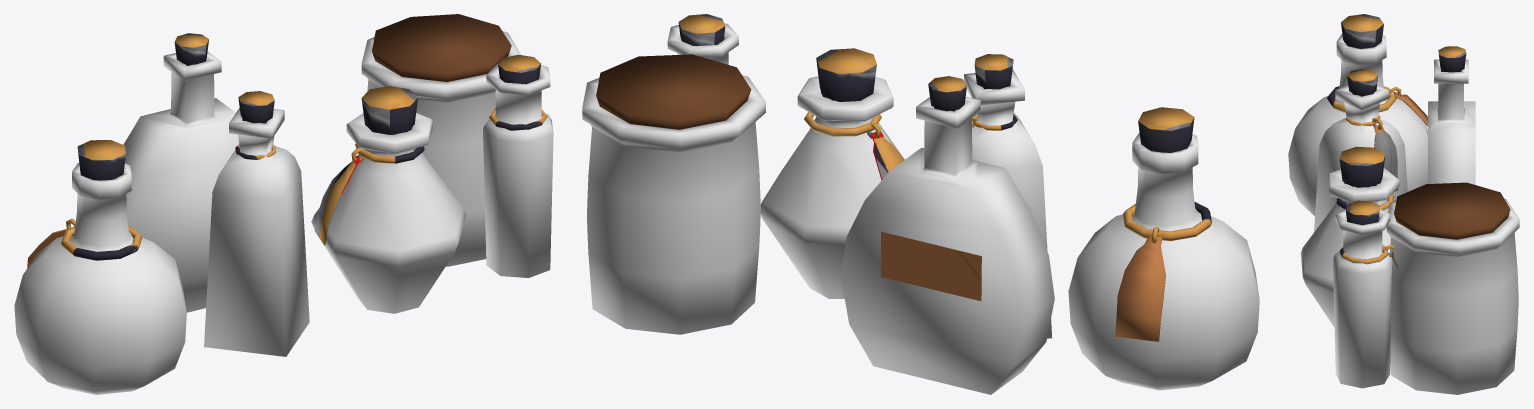
File: combination3LP.fbx
3 renders of one model, left to right at view 1: azimuth 30°, elevation 25°; view 2: azimuth 150°, elevation 25°; view 3: azimuth 270°, elevation 25°, orthographic. The views are drawn at different scales.
Visible parts, largest first — view 1: glassC3, potionC3; view 2: glassC3, potionC3; view 3: glassC3, potionC3.
Boxes of the visible parts, x1,y1,x2,y2 form: glassC3: [14, 31, 553, 394]; potionC3: [27, 14, 547, 267]; glassC3: [582, 23, 1259, 394]; potionC3: [596, 14, 1211, 341]; glassC3: [1288, 34, 1519, 394]; potionC3: [1327, 14, 1510, 269].
Bounding box in the file's own units: 205 × 93.97 × 90.99.
